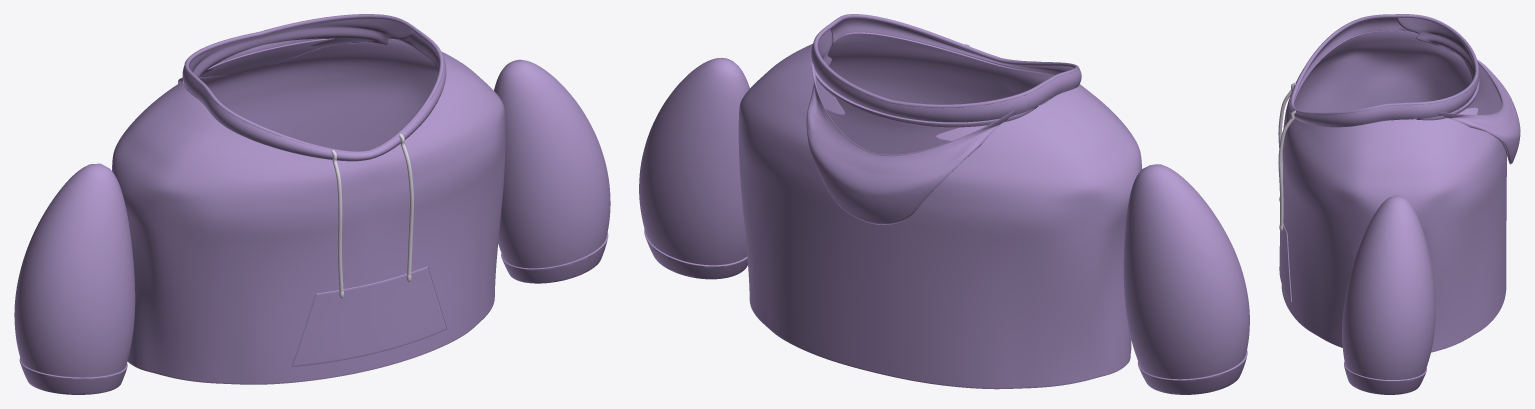
Rendered from Masculine-hoodie-top.glb.
The picture shows the model from 3 angles, left to right: view 1: azimuth 30°, elevation 25°; view 2: azimuth 150°, elevation 25°; view 3: azimuth 270°, elevation 25°; orthographic projection. The views are drawn at different scales.
Visible parts, largest first — view 1: Clothing / tailored203.001, Sleeve / full fabric wrap201 -1.001, Sleeve / full fabric wrap201 1.001, Hoodie / seated pouch202.001, Hoodie / attached opening204.001, Hoodie / rounded resting hood215.001, Hoodie / rolled opening204.001, Sleeve / shaped cuff202 -1.001, Sleeve / shaped cuff202 1.001, Hoodie / front seated cord205 1.001, Hoodie / front seated cord205 -1.001; view 2: Clothing / tailored203.001, Sleeve / full fabric wrap201 -1.001, Sleeve / full fabric wrap201 1.001, Hoodie / rounded resting hood215.001, Hoodie / attached opening204.001, Hoodie / rolled opening204.001, Sleeve / shaped cuff202 -1.001, Sleeve / shaped cuff202 1.001; view 3: Clothing / tailored203.001, Sleeve / full fabric wrap201 1.001, Hoodie / rounded resting hood215.001, Hoodie / attached opening204.001, Hoodie / rolled opening204.001, Sleeve / shaped cuff202 1.001, Hoodie / seated pouch202.001, Hoodie / front seated cord205 1.001, Hoodie / front seated cord205 -1.001.
Boxes of the visible parts, box(x1,y1,x2,y2) form: Clothing / tailored203.001: box(112, 38, 505, 384); Sleeve / full fabric wrap201 -1.001: box(14, 163, 135, 377); Sleeve / full fabric wrap201 1.001: box(494, 59, 610, 268); Hoodie / seated pouch202.001: box(293, 266, 446, 366); Hoodie / attached opening204.001: box(182, 18, 446, 161); Hoodie / rounded resting hood215.001: box(178, 18, 413, 83); Hoodie / rolled opening204.001: box(184, 14, 443, 153); Sleeve / shaped cuff202 -1.001: box(19, 358, 127, 394); Sleeve / shaped cuff202 1.001: box(501, 233, 608, 283); Hoodie / front seated cord205 1.001: box(399, 133, 413, 275); Hoodie / front seated cord205 -1.001: box(331, 150, 343, 292); Clothing / tailored203.001: box(738, 32, 1141, 389); Sleeve / full fabric wrap201 -1.001: box(1123, 164, 1249, 379); Sleeve / full fabric wrap201 1.001: box(639, 57, 749, 265); Hoodie / rounded resting hood215.001: box(806, 29, 1015, 224); Hoodie / attached opening204.001: box(811, 18, 1081, 127); Hoodie / rolled opening204.001: box(813, 14, 1079, 108); Sleeve / shaped cuff202 -1.001: box(1137, 350, 1247, 394); Sleeve / shaped cuff202 1.001: box(644, 228, 747, 279); Clothing / tailored203.001: box(1281, 30, 1506, 352); Sleeve / full fabric wrap201 1.001: box(1342, 195, 1435, 379); Hoodie / rounded resting hood215.001: box(1396, 17, 1520, 164); Hoodie / attached opening204.001: box(1288, 17, 1479, 127); Hoodie / rolled opening204.001: box(1290, 14, 1478, 114); Sleeve / shaped cuff202 1.001: box(1344, 362, 1426, 394); Hoodie / seated pouch202.001: box(1279, 223, 1291, 301); Hoodie / front seated cord205 1.001: box(1278, 110, 1295, 226); Hoodie / front seated cord205 -1.001: box(1278, 82, 1295, 178).
Size of the model in its own units: 1.09 by 0.4801 by 0.4621.
